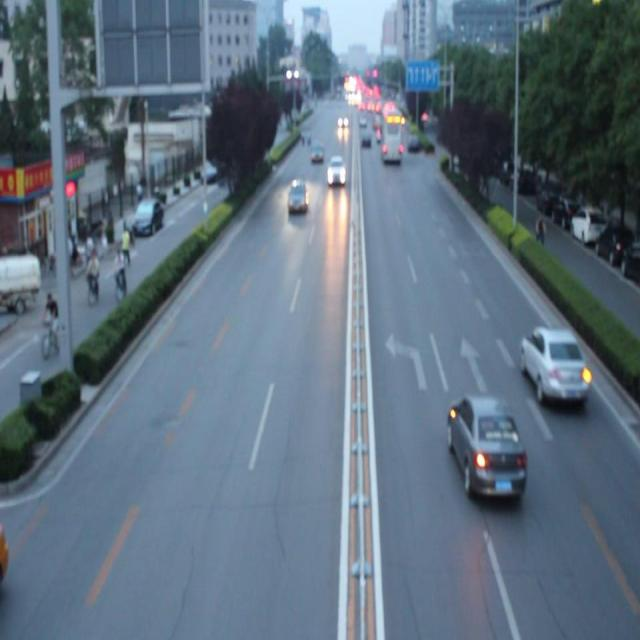car: (448, 395, 526, 501), (521, 326, 588, 404), (287, 178, 309, 214)
